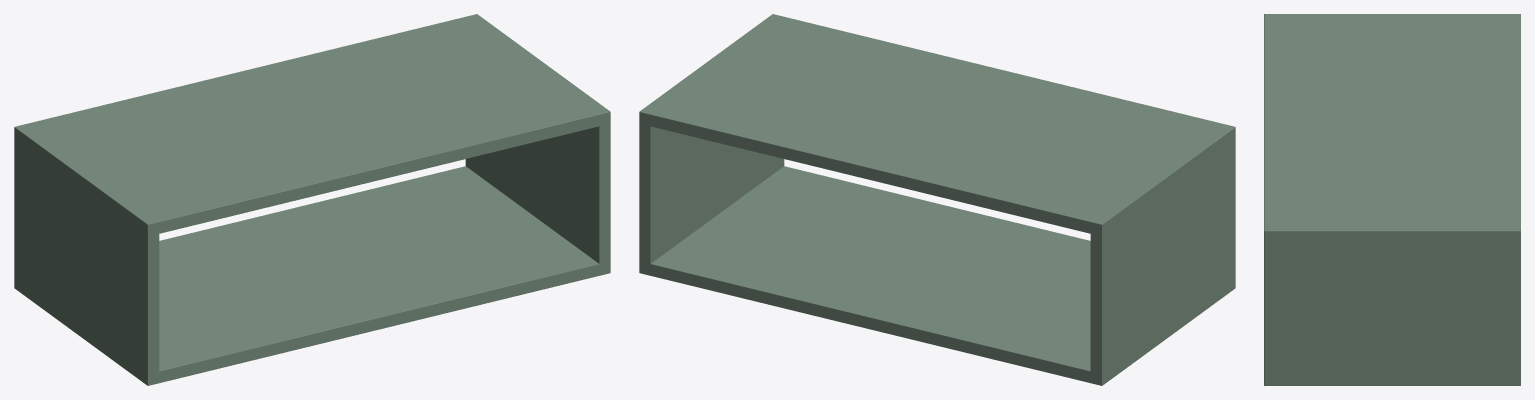
Rendered from MOD_2X07_A_O_VA.glb.
3 renders of one model, left to right at view 1: azimuth 30°, elevation 25°; view 2: azimuth 150°, elevation 25°; view 3: azimuth 270°, elevation 25°, orthographic. The views are drawn at different scales.
Bounding box in the file's own units: 720 × 240 × 360.
